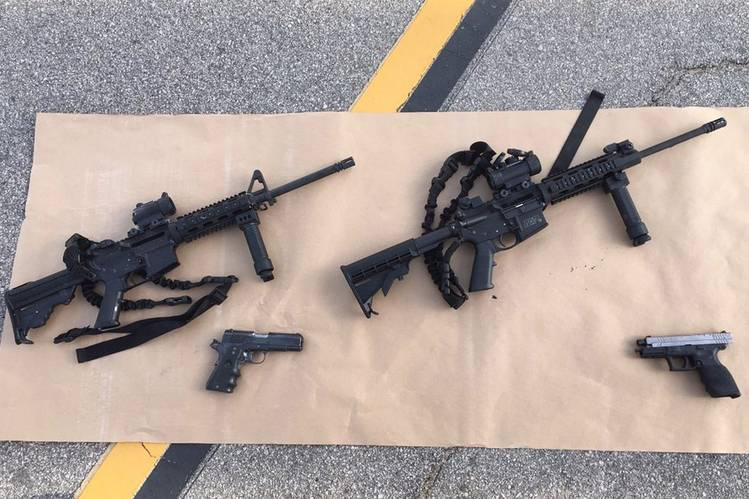Gun: (449, 131, 661, 286), (44, 172, 267, 313), (204, 321, 307, 388), (642, 333, 741, 398)
